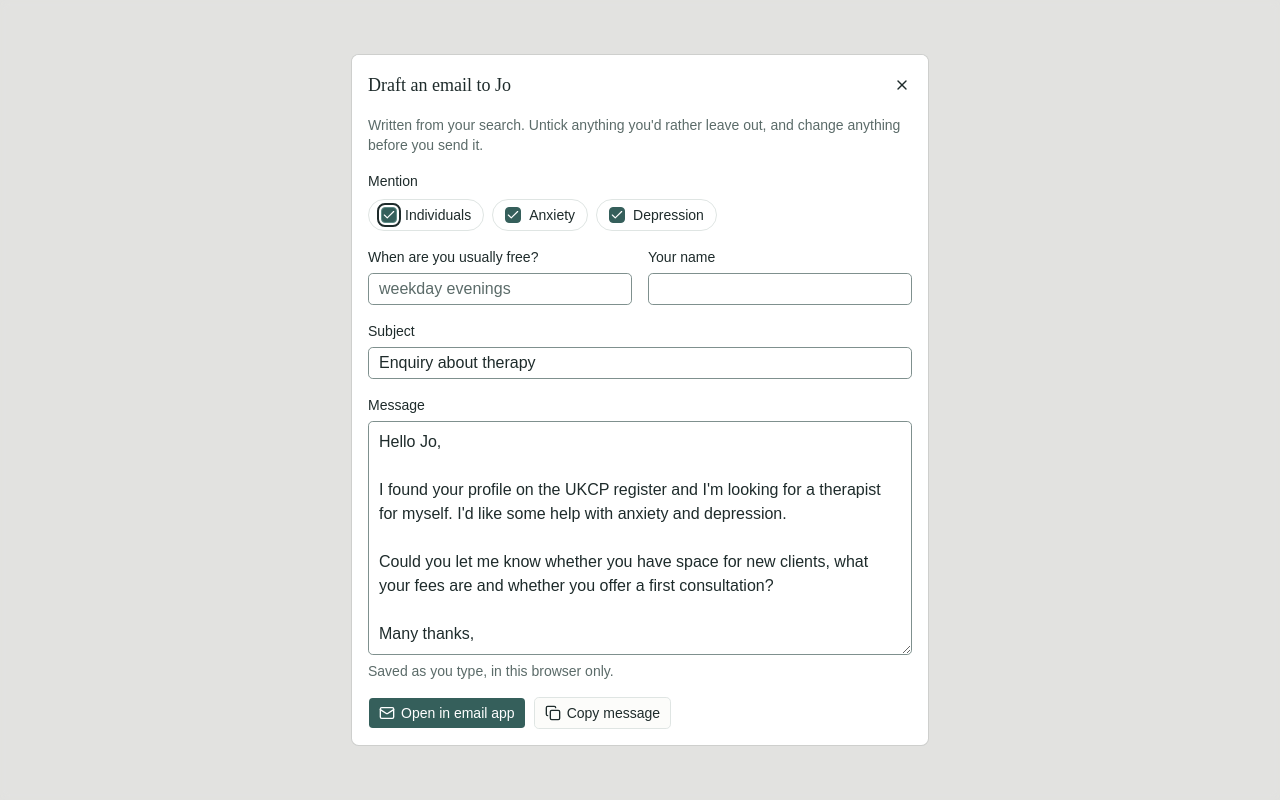
Scenario: EmailDrafter › hands the text to the visitor once they edit it: the chips and fields fold away and their edit is kept
Replace the text in the text box labelled "Message" with "Hello Jo, my own words." at (640, 538), box [368,421,912,655]
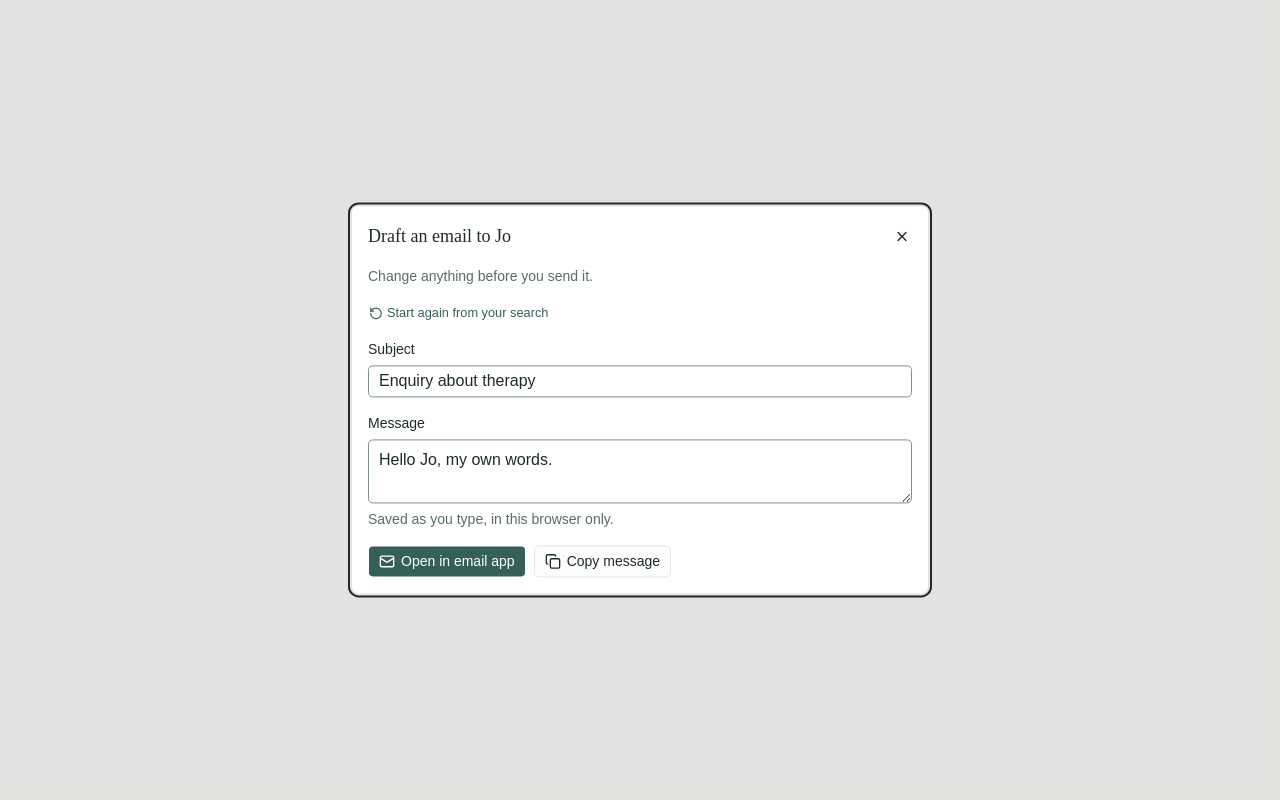
Check: the text "Mention" is gone
Check: the label "Your name" is gone
Check: the button "Start again from your search" is shown, box [368,302,550,324]
